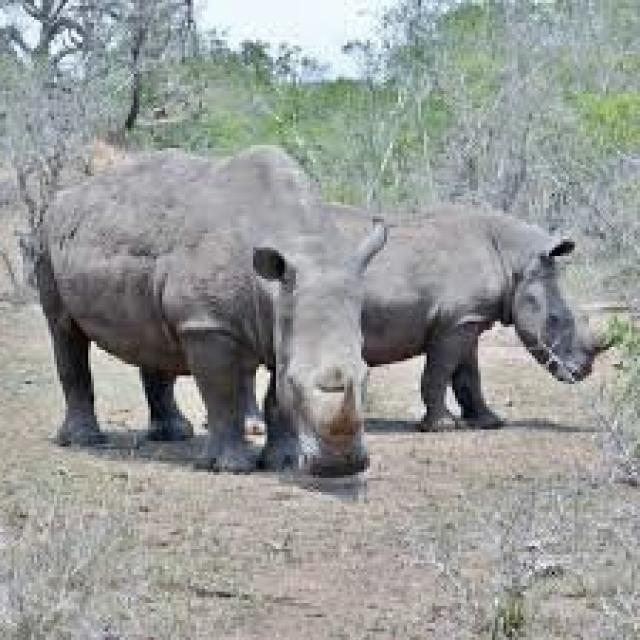rhinoceros: (40, 145, 387, 469), (364, 205, 594, 421)
